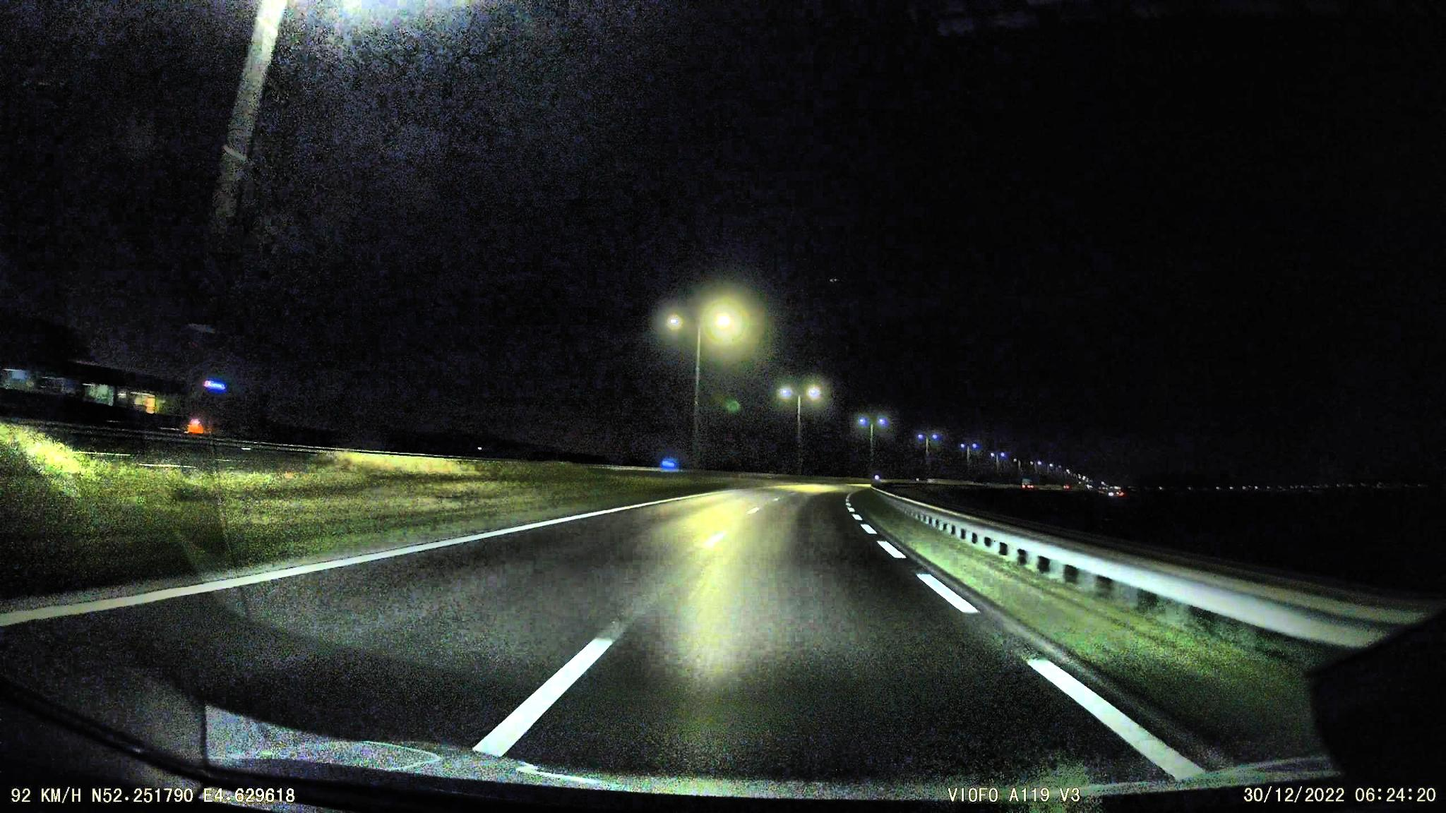Roads: (40, 488, 1225, 795)
